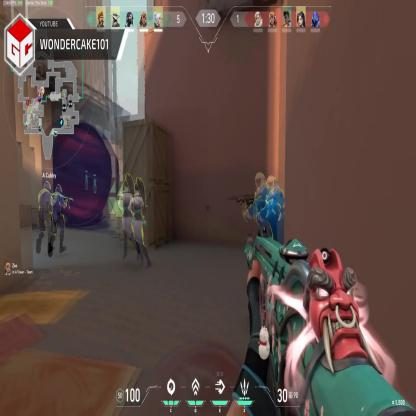enemy: (245, 168, 289, 296), (120, 173, 150, 267), (48, 181, 68, 260)
enemy_head: (264, 176, 278, 199), (54, 184, 62, 194), (134, 182, 140, 195)
